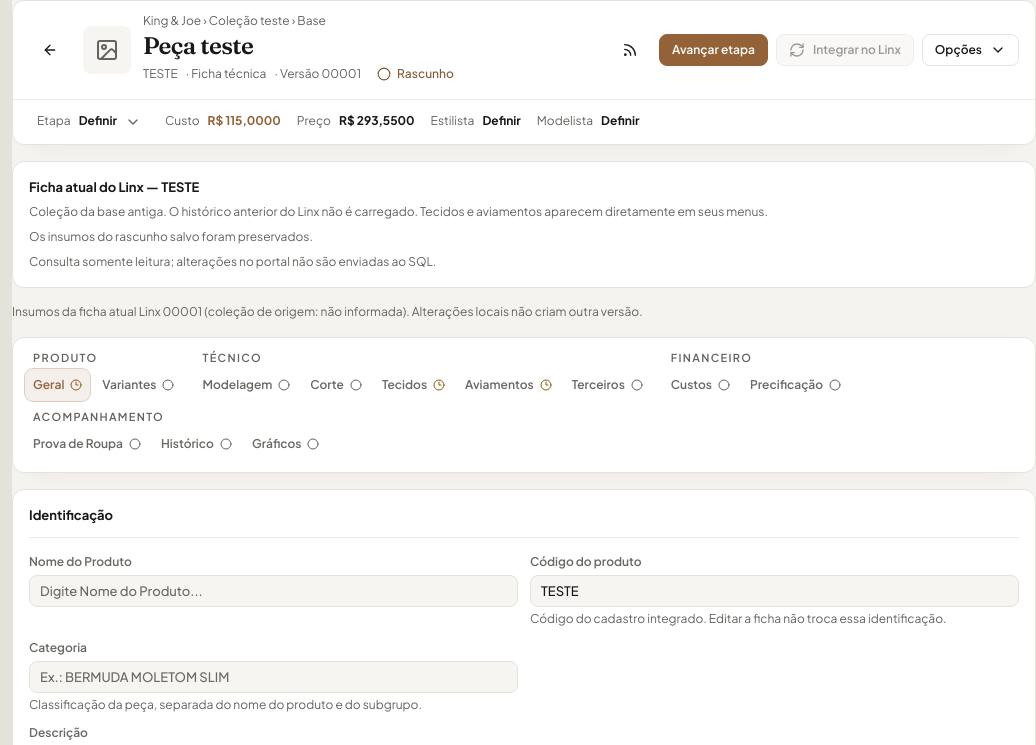
Test: Consulta de custos separada do rascunho › mostra custos Linx e precificação no cabeçalho ainda em Geral, sem exigir preço manual importado
Expected: the text "R$ 115,0000" is shown, left=208, top=113, right=281, bottom=130
Expected: the text "R$ 293,5500" is shown, left=339, top=113, right=415, bottom=130
Click the button "Precificação" at (796, 385), box left=742, top=369, right=849, bottom=401
(page scrolled)
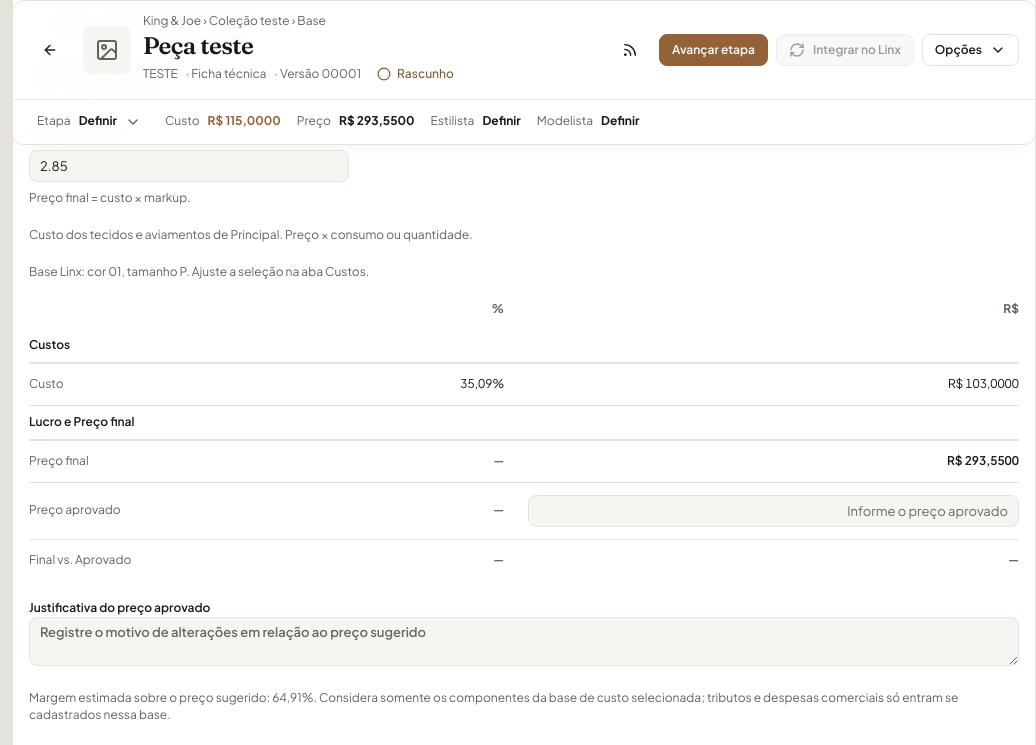
Expected: the text "R$ 103,0000" is shown, left=516, top=363, right=1019, bottom=406
